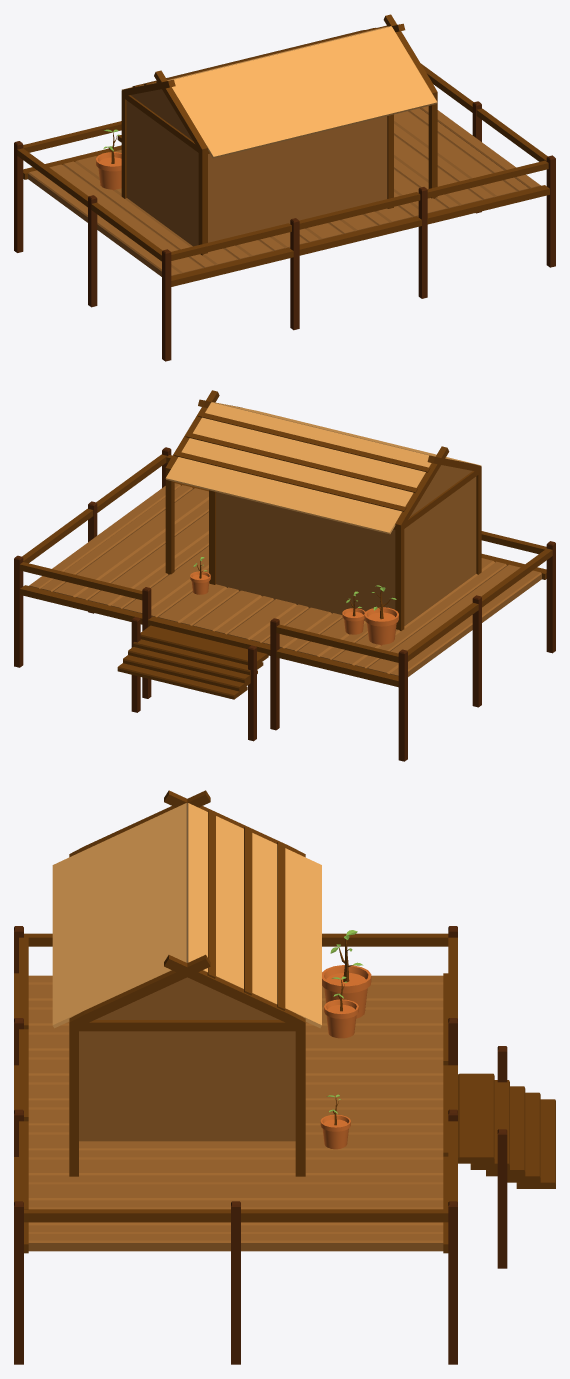
The model's file is finalStation_01.fbx.
3 views of the same model, one above another, from view 1: azimuth 30°, elevation 25°; view 2: azimuth 150°, elevation 25°; view 3: azimuth 270°, elevation 25° (orthographic). The views are drawn at different scales.
Visible parts, largest first — view 1: Plane.015, Plane.012, Plane.013, Cube.103, Cube.105, Cube.094, Cube.106, Cube.083, Cube.081, Cube.082, Cube.102, Cube.089 (+29 smaller); view 2: Plane.015, Plane.011, Plane.013, Cube.036, Cube.103, Cube.102, Cube.105, Cube.094, Cube.106, Cube.092, Cube.115, Cube.101 (+45 smaller); view 3: Plane.015, Plane.014, Cube.036, Cube.092, Cube.102, Cube.101, Cube.100, Cube.113, Cube.114, Plane.017, Cube.112, Cube.154 (+38 smaller).
Part boxes in pixels (x1,y1,x2,y2): Plane.015: (122,26,437,158); Plane.012: (208,116,387,248); Plane.013: (126,100,198,246); Cube.103: (394,111,517,197); Cube.105: (28,170,179,276); Cube.094: (49,164,203,273); Cube.106: (63,161,214,267); Cube.083: (427,185,549,224); Cube.081: (299,216,421,255); Cube.082: (171,247,293,286); Cube.102: (394,135,482,205); Cube.089: (427,160,548,198); Plane.015: (165,402,481,534); Plane.011: (216,492,395,620); Plane.013: (404,476,476,625); Cube.036: (117,625,268,699); Cube.103: (52,488,208,597); Cube.102: (87,511,208,605); Cube.105: (390,570,541,676); Cube.094: (366,564,520,673); Cube.106: (355,561,506,668); Cube.092: (29,483,180,588); Cube.115: (41,485,192,591); Cube.101: (122,545,208,613); Plane.015: (52,803,321,1028); Plane.014: (79,1031,295,1141); Cube.036: (458,1073,555,1188); Cube.092: (28,1234,443,1251); Cube.102: (28,1184,443,1200); Cube.101: (28,1159,443,1175); Cube.100: (28,1134,443,1150); Cube.113: (28,1175,443,1184); Cube.114: (28,1200,443,1209); Plane.017: (95,977,279,1019); Cube.112: (28,1150,443,1159); Cube.154: (69,954,305,1022).
Bounding box in the file's own units: 3363 × 1876 × 2752.
